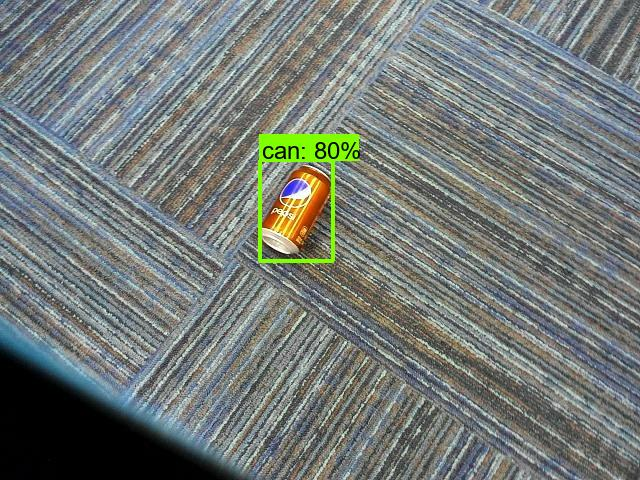can: (256, 162, 354, 270)
